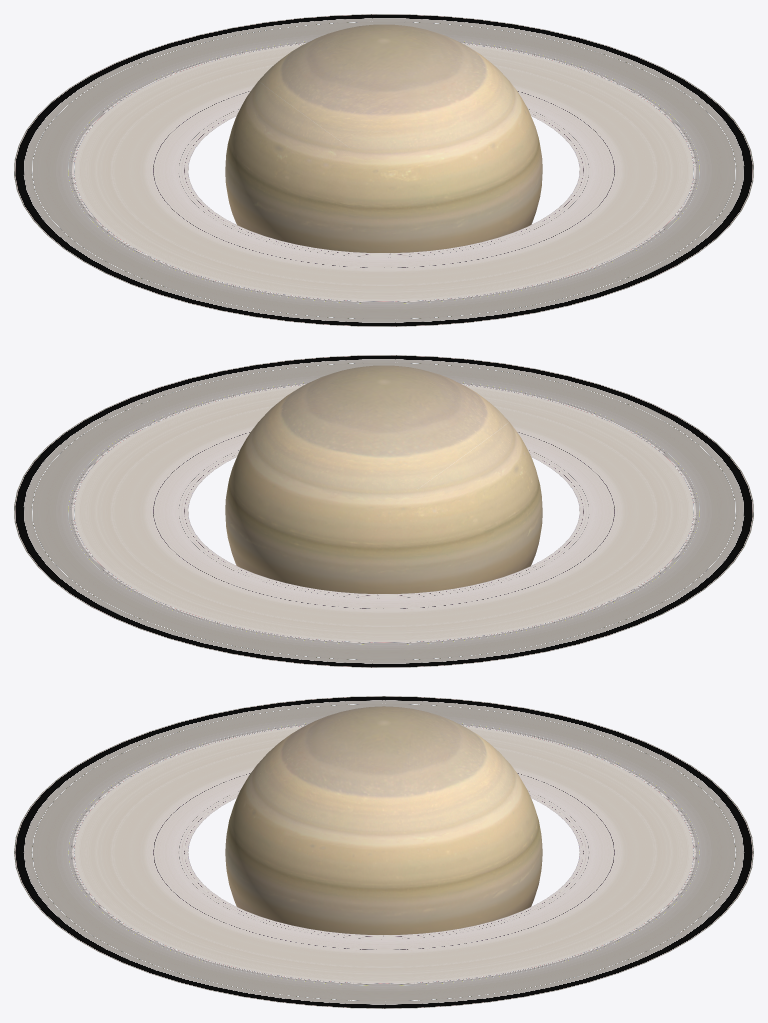
File: saturno_saturn.obj
The picture shows the model from 3 angles, top to bottom: view 1: azimuth 30°, elevation 25°; view 2: azimuth 150°, elevation 25°; view 3: azimuth 270°, elevation 25°; orthographic projection.
Parts seen in each view (by area): view 1: Object_6, Object_4; view 2: Object_6, Object_4; view 3: Object_6, Object_4.
Part boxes in pixels (x1,y1,x2,y2): Object_6: [14, 14, 753, 326]; Object_4: [225, 24, 542, 252]; Object_6: [14, 355, 753, 667]; Object_4: [225, 365, 542, 593]; Object_6: [14, 696, 753, 1008]; Object_4: [225, 706, 542, 934].
Bounding box in the file's own units: 3.93 × 1.52 × 3.93.
Materials: 2 (2 with a texture image).
